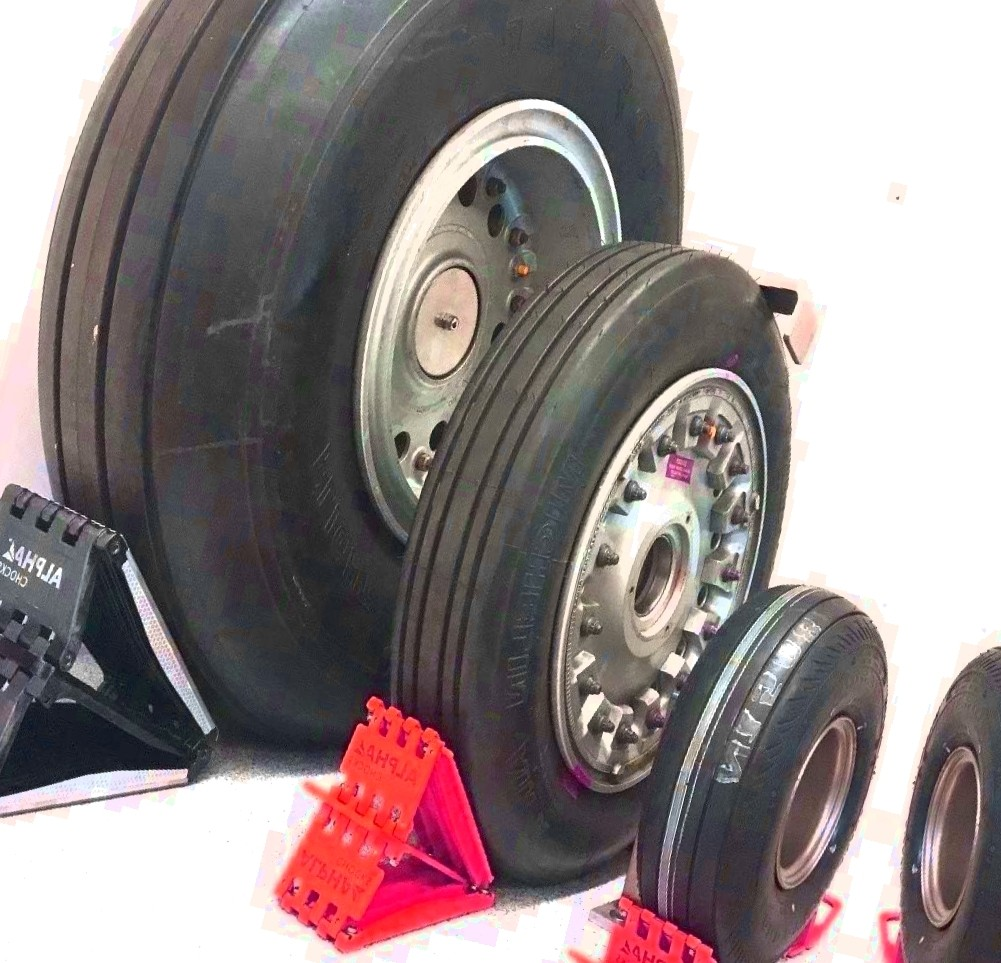chock: (0, 457, 277, 881), (258, 683, 540, 963), (553, 880, 747, 963)
wheel: (0, 0, 771, 826), (351, 204, 841, 903), (600, 558, 916, 963), (855, 622, 1001, 963)
